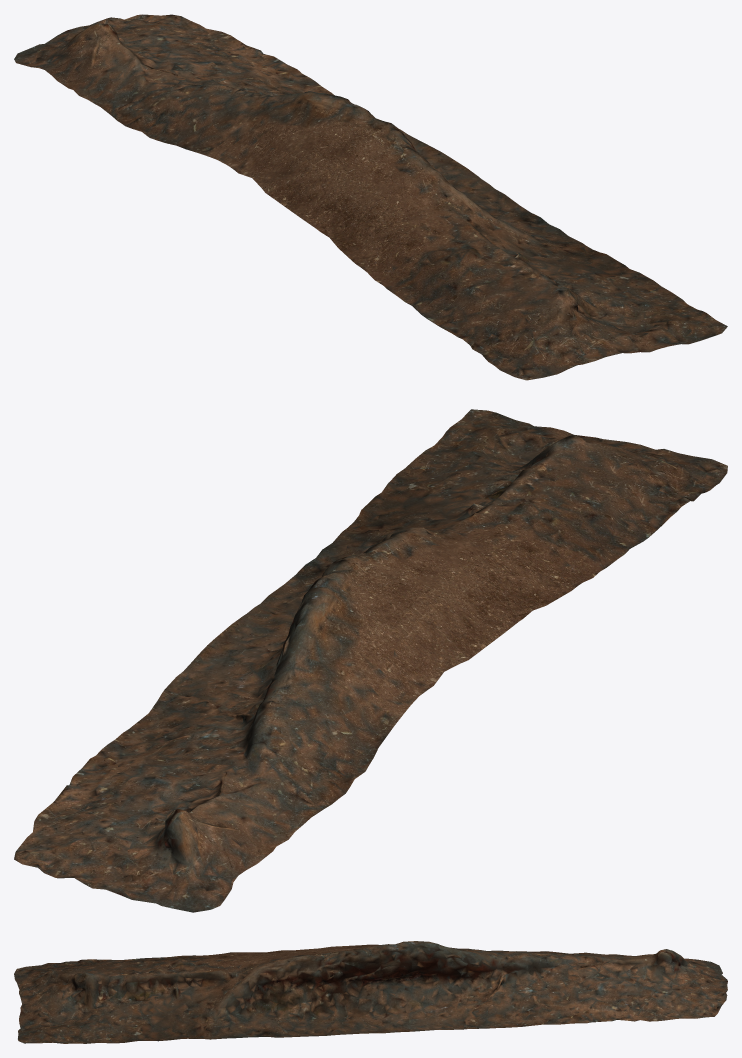
File: single_root.glb
The picture shows the model from 3 angles, top to bottom: view 1: azimuth 30°, elevation 25°; view 2: azimuth 150°, elevation 25°; view 3: azimuth 270°, elevation 25°; orthographic projection. The views are drawn at different scales.
Visible parts, largest first — view 1: single_root; view 2: single_root; view 3: single_root.
Part boxes in pixels (x1=…): single_root: x1=14, y1=14, x2=727, y2=380; single_root: x1=14, y1=409, x2=727, y2=912; single_root: x1=14, y1=941, x2=727, y2=1043.
Size of the model in its own units: 0.5542 by 0.1757 by 1.83.
1 material, 1 textured.
